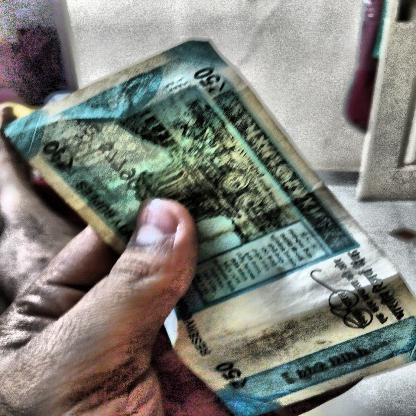Rs50: (203, 353, 261, 397), (186, 60, 236, 102)
